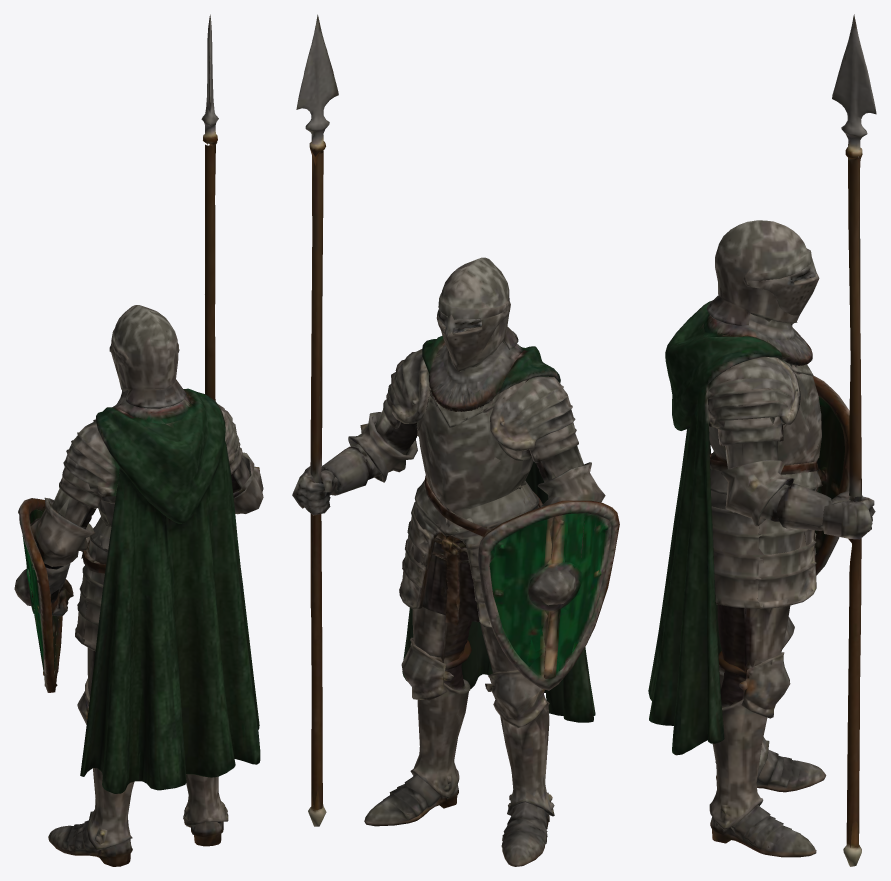
File: infantry_parts.glb
3 views of the same model, side by side, from view 1: azimuth 30°, elevation 25°; view 2: azimuth 150°, elevation 25°; view 3: azimuth 270°, elevation 25° (orthographic). The views are drawn at different scales.
Parts seen in each view (by area): view 1: cuirass, arms, legs, helmet, shield, spear; view 2: legs, cuirass, shield, arms, spear, helmet; view 3: cuirass, legs, arms, spear, helmet, shield.
Boxes of the visible parts, box(x1,y1,x2,y2) form: cuirass: box(80, 388, 260, 793); arms: box(30, 404, 263, 601); legs: box(48, 545, 228, 866); helmet: box(109, 305, 191, 424); shield: box(14, 498, 73, 692); spear: box(201, 14, 218, 400); legs: box(364, 502, 554, 866); cuirass: box(402, 335, 595, 722); shield: box(478, 500, 619, 690); arms: box(292, 349, 605, 515); spear: box(296, 14, 338, 826); helmet: box(429, 257, 523, 406); cuirass: box(648, 301, 822, 755); legs: box(709, 470, 826, 857); arms: box(706, 321, 875, 539); spear: box(832, 14, 876, 866); helmet: box(703, 220, 819, 359); shield: box(812, 376, 849, 575).
Bounding box in the file's own units: 0.898 × 2.66 × 0.6422.
1 material, 1 textured.
